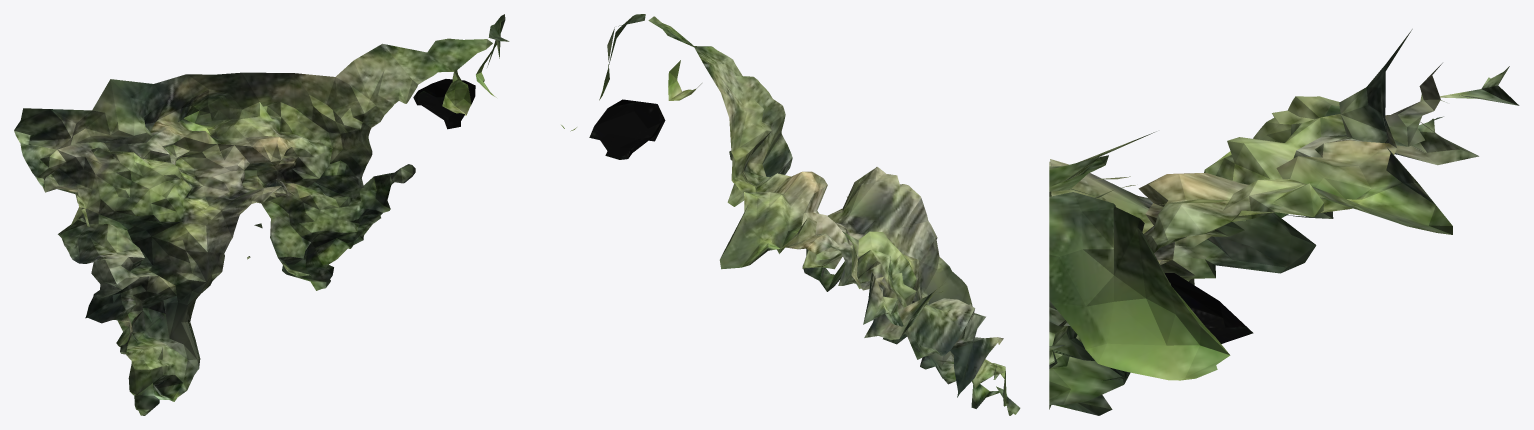
The picture shows the model from 3 angles, left to right: view 1: azimuth 30°, elevation 25°; view 2: azimuth 150°, elevation 25°; view 3: azimuth 270°, elevation 25°; orthographic projection. The views are drawn at different scales.
Bounding box in the file's own units: 52.22 × 37.54 × 31.34.
2 materials, 2 textured.
